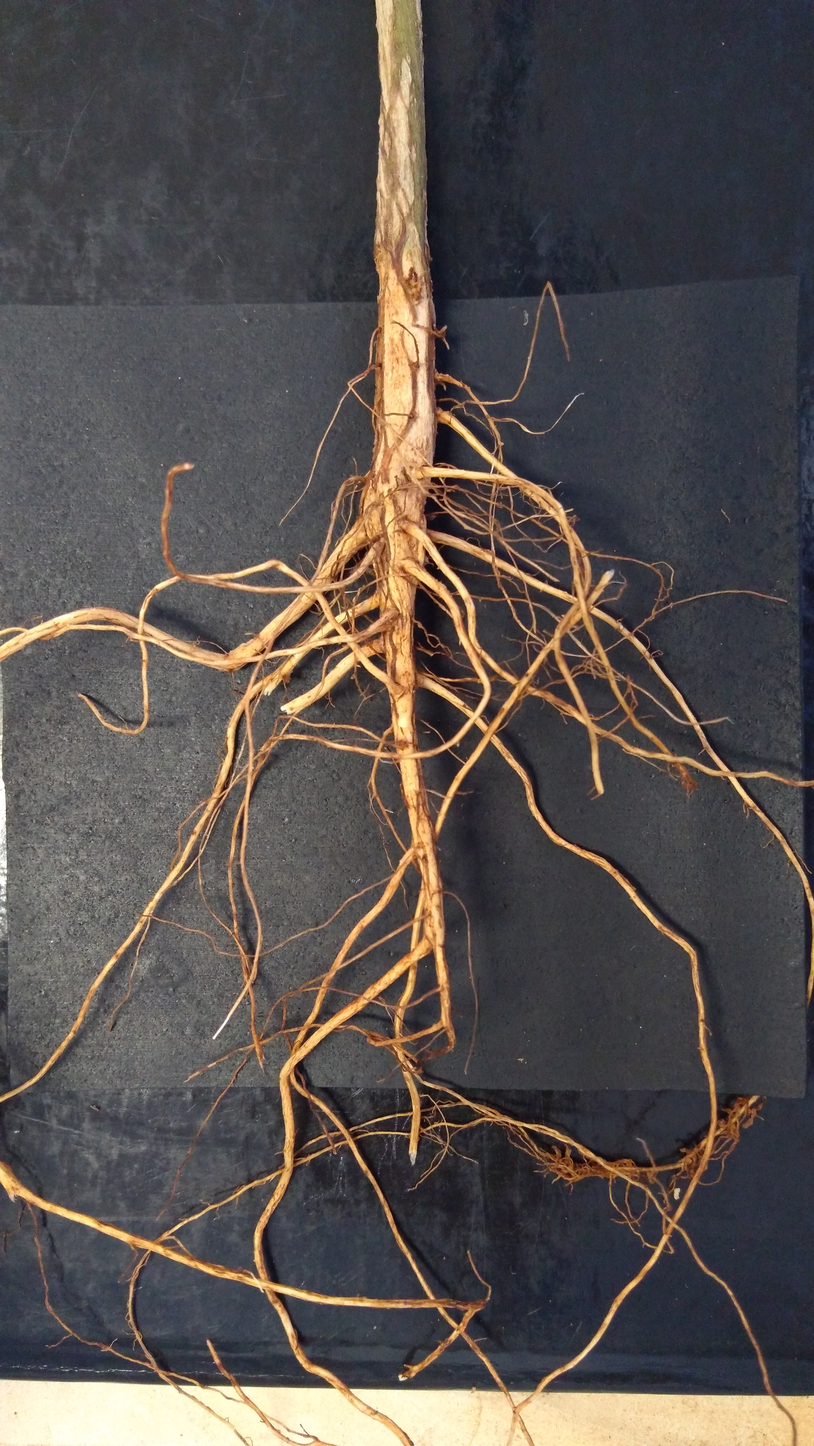nodule: (732, 1097, 752, 1116), (560, 1156, 574, 1175), (716, 1118, 727, 1129), (673, 1187, 680, 1200), (684, 1156, 694, 1165), (423, 555, 429, 567)
